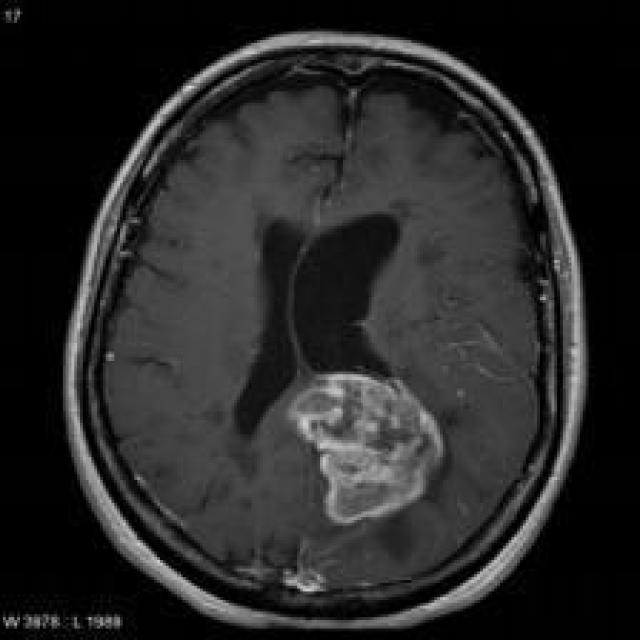Tumor: (288, 374, 463, 532)
